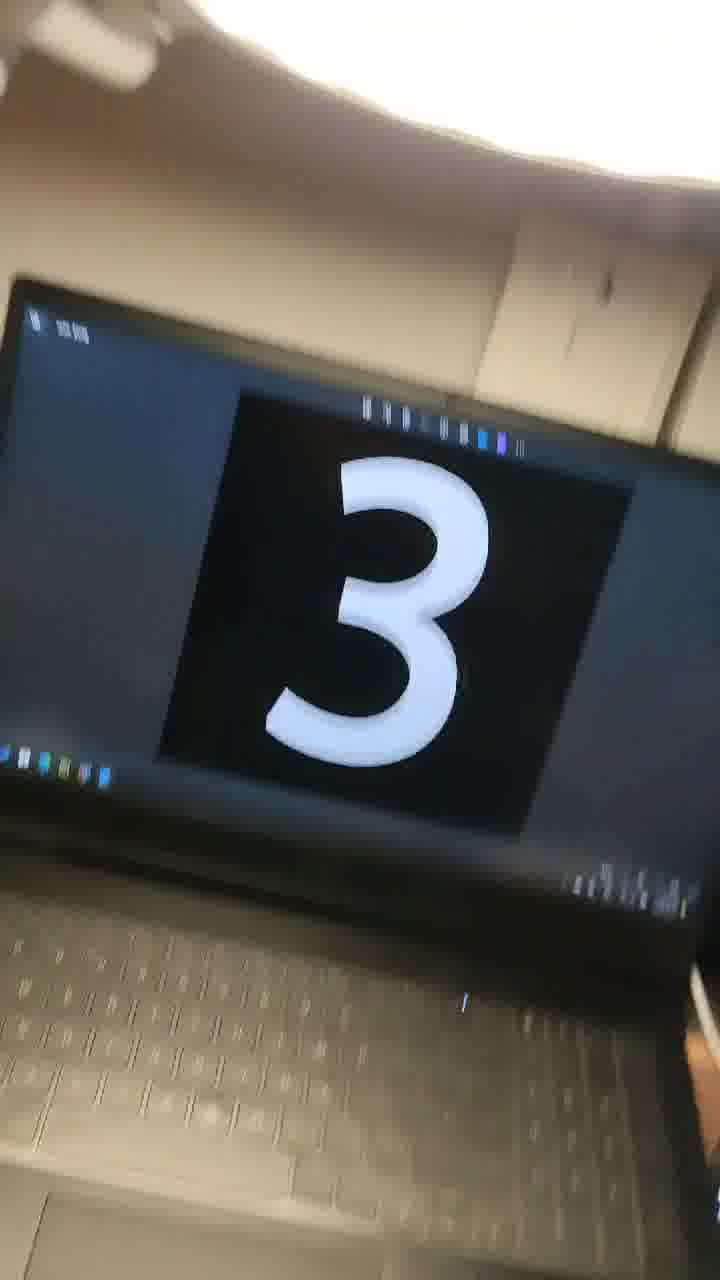three: (241, 394, 528, 807)
